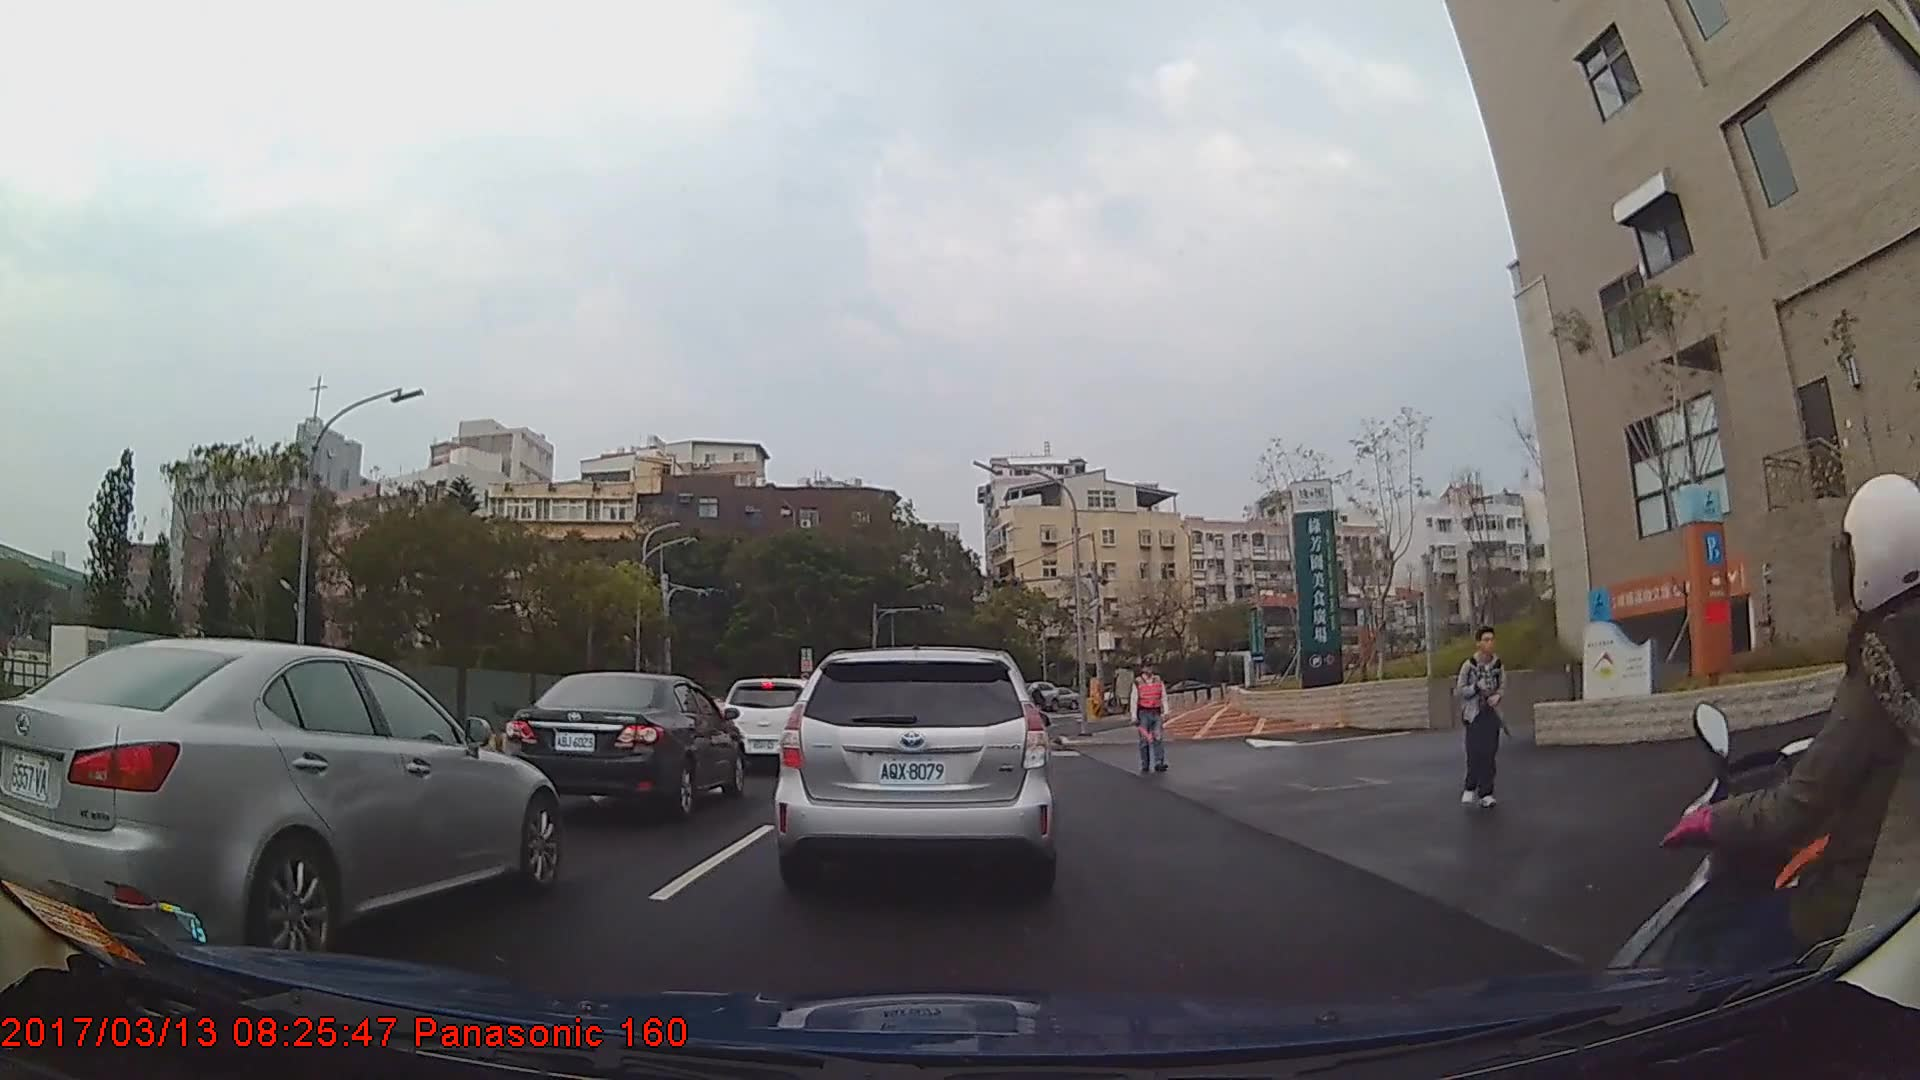pedestrian: (1455, 630, 1509, 810), (1134, 661, 1174, 777)
rider: (1597, 470, 1920, 1080)
vehicle: (0, 637, 557, 971), (772, 649, 1056, 901), (504, 671, 746, 818), (720, 677, 824, 769), (1041, 687, 1081, 716)
